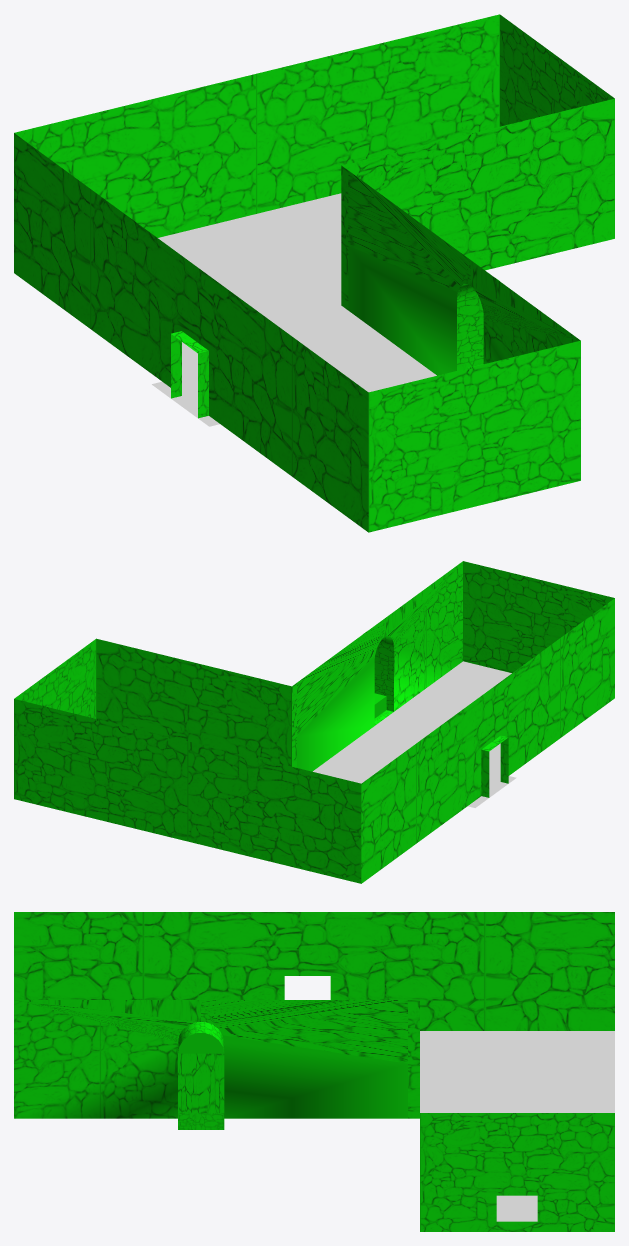
The model's file is 2층 드레스룸.fbx.
The picture shows the model from 3 angles, top to bottom: view 1: azimuth 30°, elevation 25°; view 2: azimuth 150°, elevation 25°; view 3: azimuth 270°, elevation 25°; orthographic projection. The views are drawn at different scales.
Visible parts, largest first — view 1: 드레스룸 벽, 드레스 룸 바닥; view 2: 드레스룸 벽, 드레스 룸 바닥; view 3: 드레스룸 벽, 드레스 룸 바닥.
Boxes of the visible parts, left/top/right/bottom form: 드레스룸 벽: left=14, top=14, right=614, bottom=532; 드레스 룸 바닥: left=152, top=193, right=436, bottom=426; 드레스룸 벽: left=14, top=561, right=614, bottom=883; 드레스 룸 바닥: left=313, top=661, right=516, bottom=807; 드레스룸 벽: left=14, top=912, right=614, bottom=1231; 드레스 룸 바닥: left=420, top=1031, right=614, bottom=1221.
Bounding box in the file's own units: 717 × 193 × 886.
